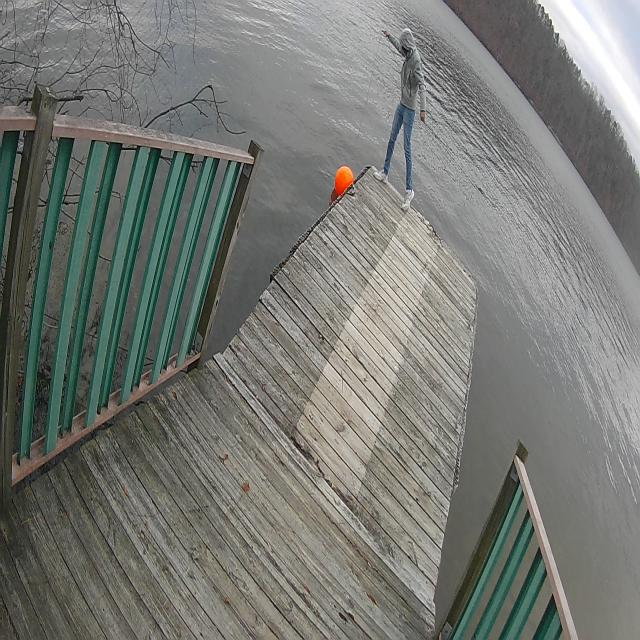Buoy: (333, 161, 355, 207)
